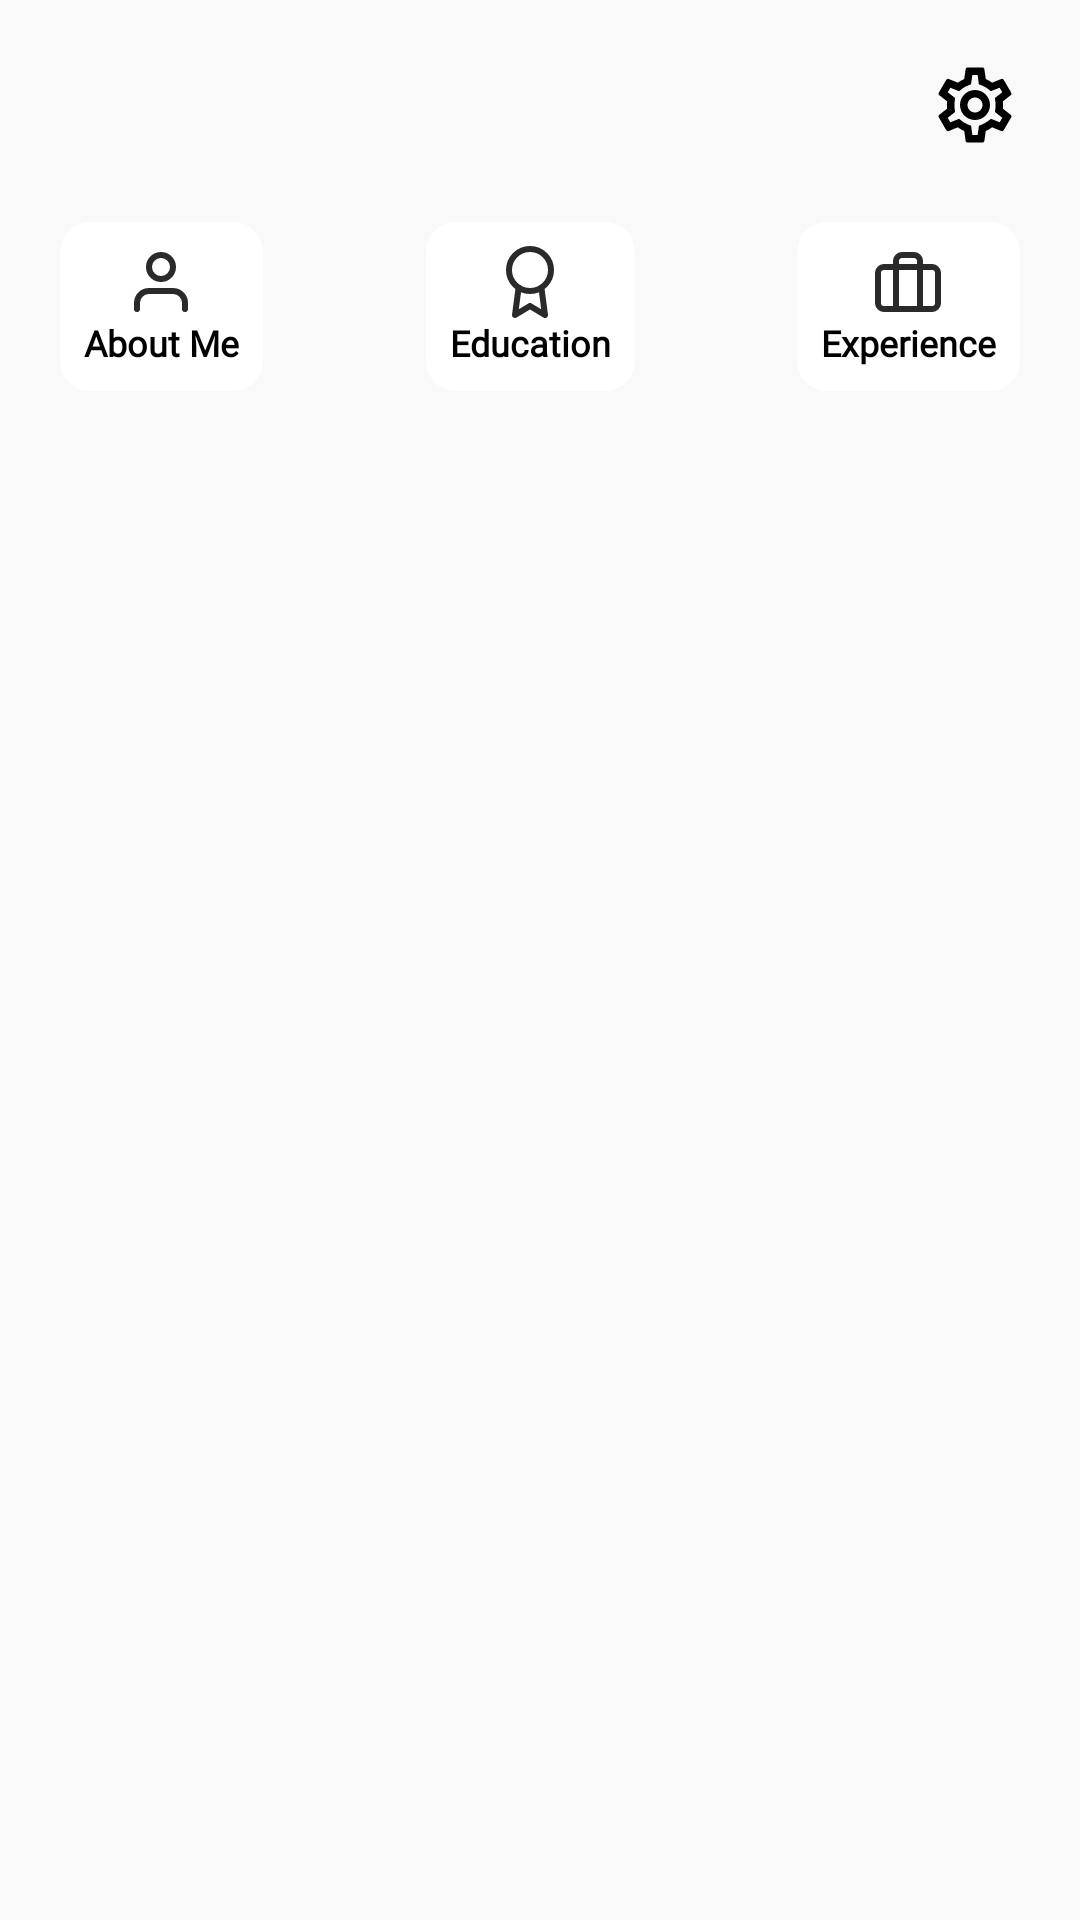

Screen size 1080x1920. Icon name, then its box in pixels as (x1, y1, x2, y2):
settings: (938, 67, 1012, 143)
